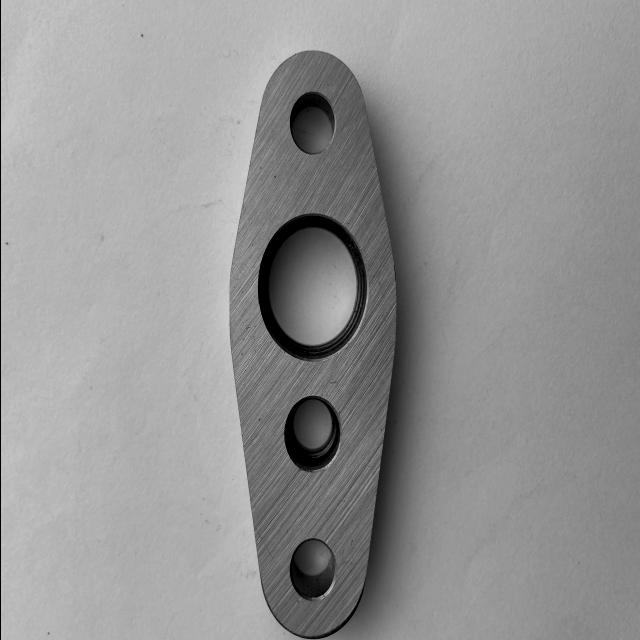chap: (358, 245, 362, 251)
lines: (254, 528, 276, 562)
